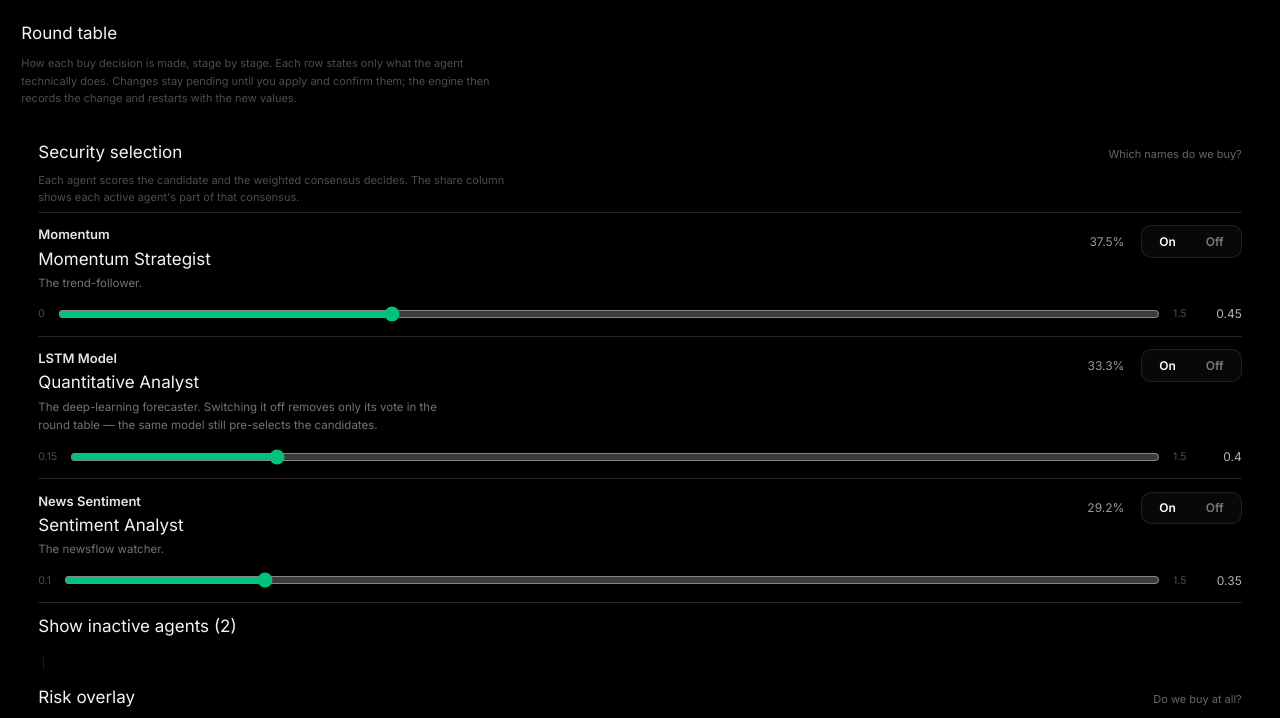
it: Round table card (UXC-1 S4) › T7: Default settings resets pending values to the GET defaults — badges gone, nothing written
This screenshot has width=1280, height=718.
Set the slider named "MomentumAgent weight" to "0.6" at [500, 314], box [58, 306, 1160, 322]
(page scrolled)
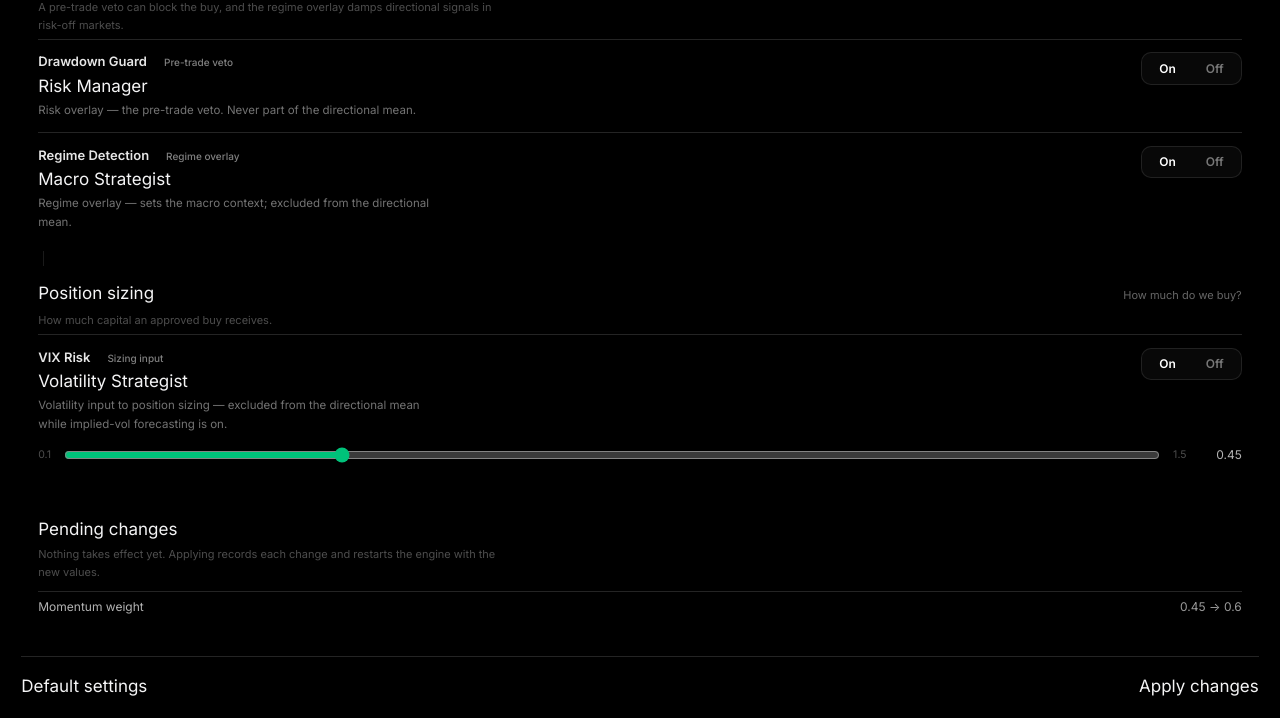
Click the button "Default settings" at [84, 686], box [21, 674, 147, 699]
(page scrolled)
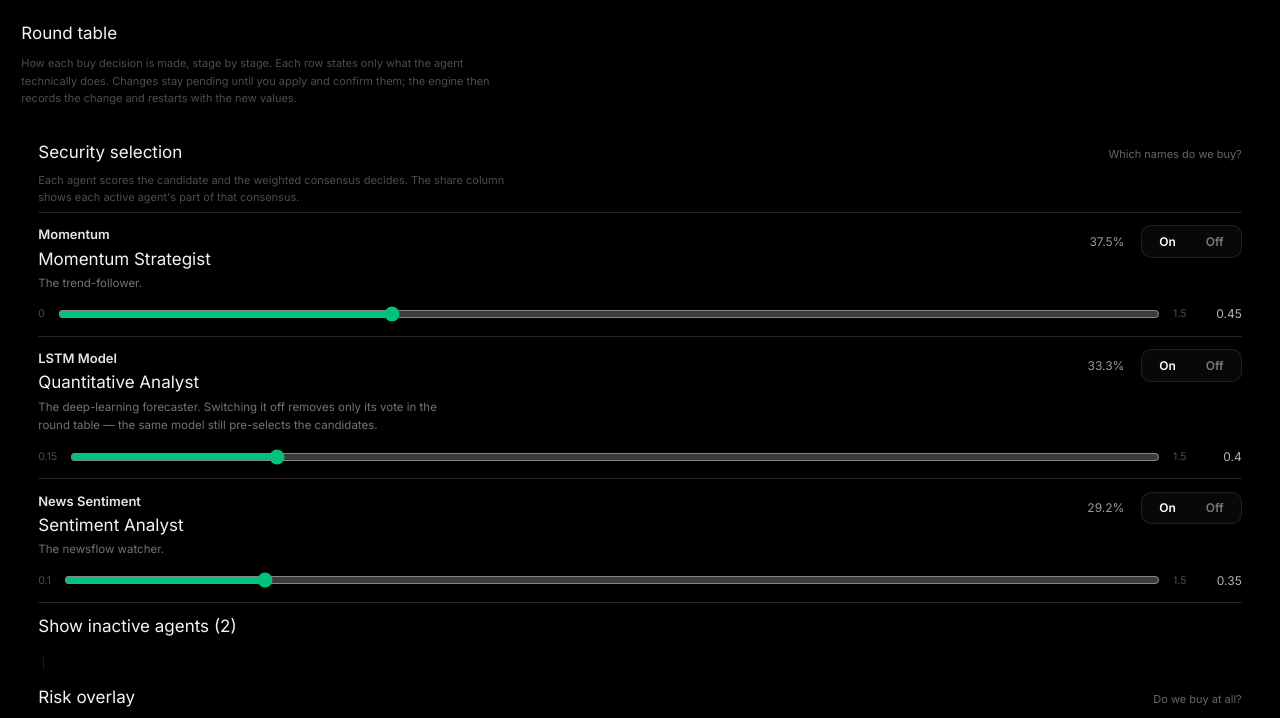
Expected: the slider named "MomentumAgent weight" holds "0.45", [58, 306, 1160, 322]
